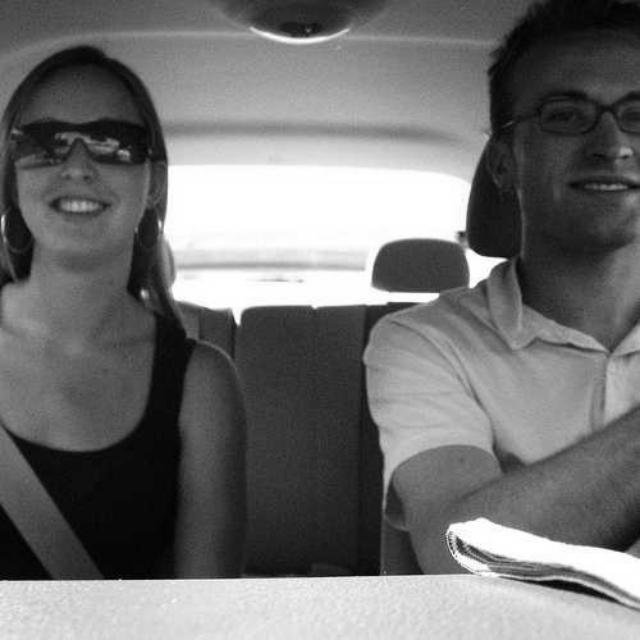SafeDriving: (538, 99, 594, 132), (615, 98, 640, 131)
Seatbelt: (0, 413, 114, 585)
